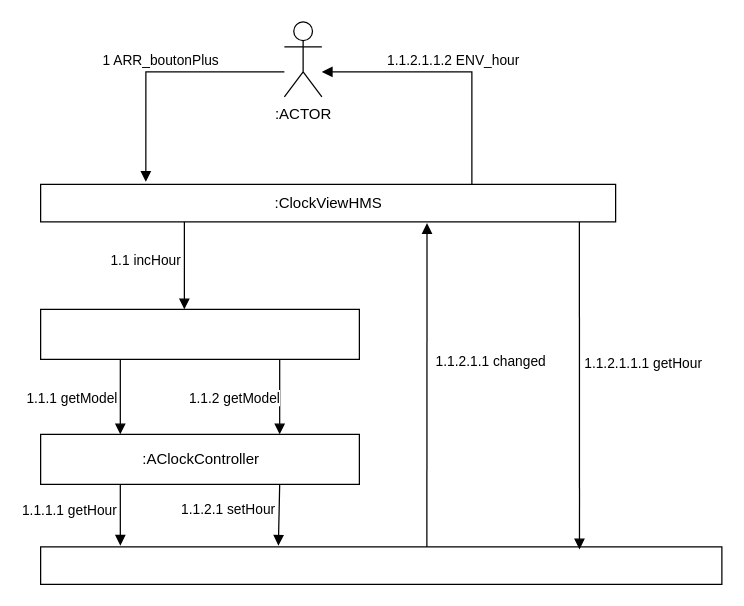
This 744x606 diagram has some shape labels left out. Each missing label, with the box of its shape:
:ClockController: (39, 308, 359, 359)
:ClockModel: (39, 546, 722, 584)
